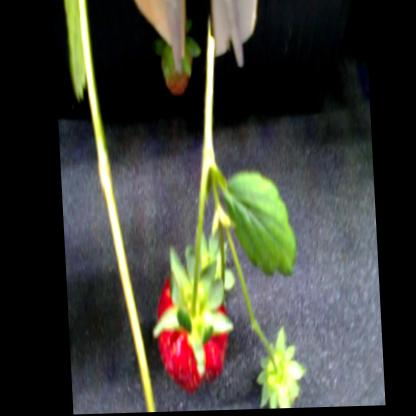ripe: (131, 276, 234, 413)
unripe: (157, 30, 193, 98)
